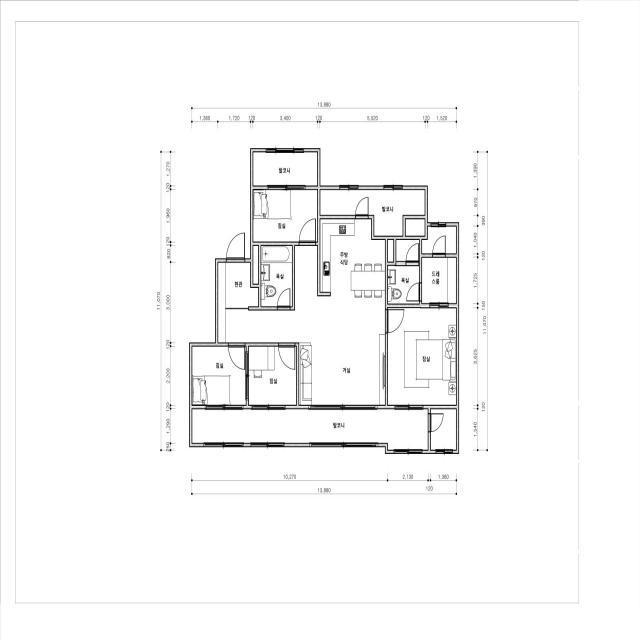space_balconi: (192, 409, 428, 450), (320, 190, 425, 236), (253, 152, 317, 186)
space_bedroom: (388, 308, 456, 405), (253, 190, 317, 242), (192, 347, 246, 405), (249, 347, 296, 405)
space_dressroom: (422, 258, 456, 303)
space_front: (218, 263, 258, 308)
space_kitchen: (320, 219, 385, 296)
space_living_room: (218, 246, 385, 405)
space_other: (431, 409, 456, 450), (422, 227, 456, 253), (406, 219, 425, 236), (253, 246, 258, 284), (388, 240, 393, 262)
space_toilet: (261, 246, 292, 306), (388, 266, 419, 304), (396, 240, 419, 261)
